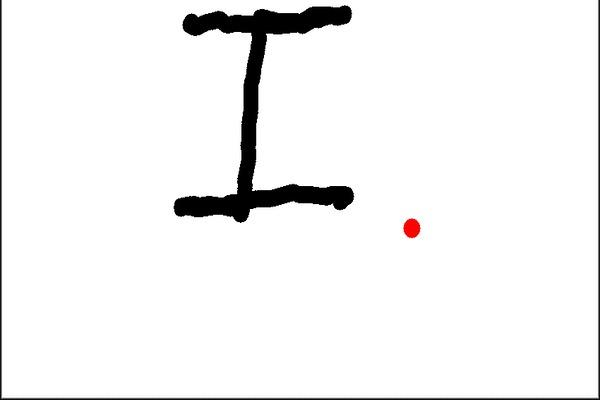i: (163, 2, 363, 227)
